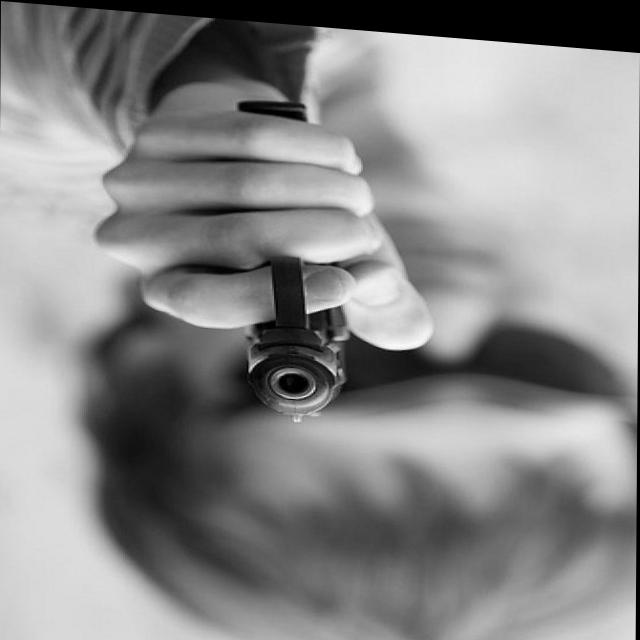handgun: (215, 92, 349, 423)
